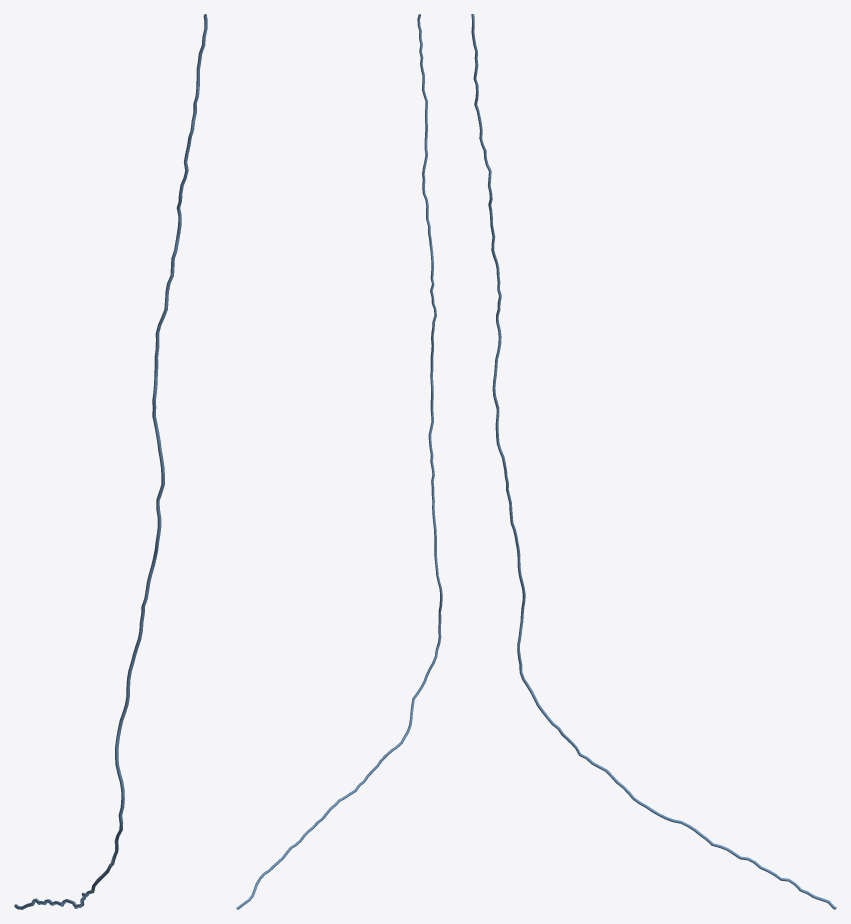
Rendered from sweep5.fbx.
3 renders of one model, left to right at view 1: azimuth 30°, elevation 25°; view 2: azimuth 150°, elevation 25°; view 3: azimuth 270°, elevation 25°, orthographic. The views are drawn at different scales.
Visible parts, largest first — view 1: sweep5; view 2: sweep5; view 3: sweep5.
Part boxes in pixels (x1,y1,x2,y2): sweep5: (14, 14, 207, 909); sweep5: (236, 14, 442, 909); sweep5: (471, 14, 836, 909).
Size of the model in its own units: 0.5833 by 6.46 by 2.42.
